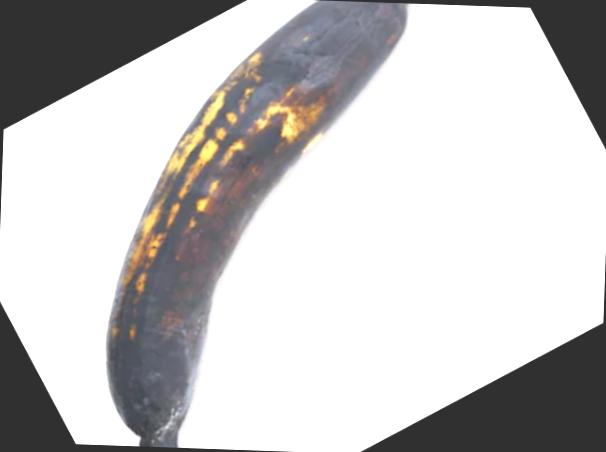Banana Overripe: (58, 0, 415, 452)
